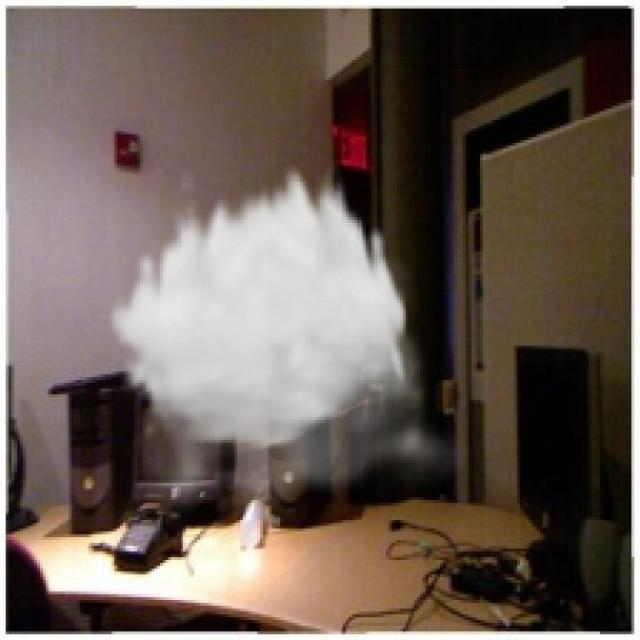Smoke: (106, 160, 474, 520)
